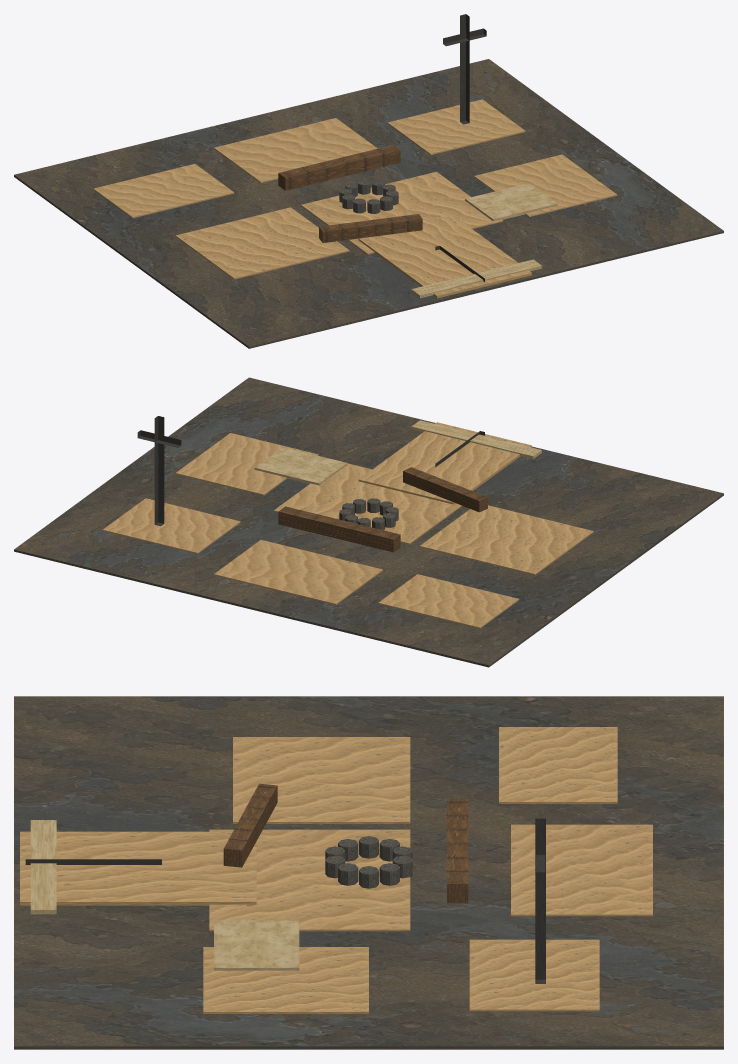
Rendered from ENV_EPILOGUE_001.obj.
The picture shows the model from 3 angles, top to bottom: view 1: azimuth 30°, elevation 25°; view 2: azimuth 150°, elevation 25°; view 3: azimuth 270°, elevation 25°; orthographic projection. The views are drawn at different scales.
Parts seen in each view (by area): view 1: ExistingCampFootprint, RecedingWetnessPatch_4, StormReleasePath, RecedingWetnessPatch_2, RecedingWetnessPatch_5, RecedingWetnessPatch_1, RecedingWetnessPatch_3, RecedingWetnessPatch_6, EpilogueFocus, EndingCrateSocket, CampHistoryBench, DawnDirectionMarker (+1 smaller); view 2: ExistingCampFootprint, RecedingWetnessPatch_4, RecedingWetnessPatch_2, StormReleasePath, RecedingWetnessPatch_5, RecedingWetnessPatch_1, RecedingWetnessPatch_3, RecedingWetnessPatch_6, EpilogueFocus, EndingCrateSocket, CampHistoryBench, DawnDirectionMarker (+1 smaller); view 3: ExistingCampFootprint, RecedingWetnessPatch_4, StormReleasePath, RecedingWetnessPatch_5, RecedingWetnessPatch_2, RecedingWetnessPatch_6, RecedingWetnessPatch_1, RecedingWetnessPatch_3, EndingCrateSocket, DawnDirectionMarker, EpilogueFocus, CampHistoryBench (+2 smaller).
Part boxes in pixels (x1,y1,x2,y2): ExistingCampFootprint: [14, 59, 723, 348]; RecedingWetnessPatch_4: [175, 207, 349, 279]; StormReleasePath: [358, 215, 531, 298]; RecedingWetnessPatch_2: [214, 118, 377, 183]; RecedingWetnessPatch_5: [301, 171, 503, 254]; RecedingWetnessPatch_1: [93, 164, 234, 218]; RecedingWetnessPatch_3: [387, 99, 525, 154]; RecedingWetnessPatch_6: [474, 154, 617, 217]; EpilogueFocus: [278, 145, 400, 190]; EndingCrateSocket: [465, 183, 557, 221]; CampHistoryBench: [319, 214, 422, 242]; DawnDirectionMarker: [411, 259, 541, 298]; ExistingCampFootprint: [14, 377, 723, 667]; RecedingWetnessPatch_4: [419, 505, 593, 575]; RecedingWetnessPatch_2: [214, 540, 382, 604]; StormReleasePath: [358, 422, 531, 504]; RecedingWetnessPatch_5: [274, 463, 462, 544]; RecedingWetnessPatch_1: [378, 574, 519, 628]; RecedingWetnessPatch_3: [102, 498, 240, 553]; RecedingWetnessPatch_6: [175, 433, 318, 495]; EpilogueFocus: [278, 506, 400, 552]; EndingCrateSocket: [254, 447, 347, 485]; CampHistoryBench: [403, 467, 487, 512]; DawnDirectionMarker: [411, 420, 541, 458]; ExistingCampFootprint: [14, 696, 723, 1049]; RecedingWetnessPatch_4: [233, 737, 410, 823]; StormReleasePath: [20, 831, 256, 905]; RecedingWetnessPatch_5: [209, 829, 410, 931]; RecedingWetnessPatch_2: [511, 824, 652, 916]; RecedingWetnessPatch_6: [203, 947, 368, 1013]; RecedingWetnessPatch_1: [499, 727, 617, 803]; RecedingWetnessPatch_3: [469, 939, 599, 1011]; EndingCrateSocket: [214, 920, 299, 970]; DawnDirectionMarker: [30, 820, 56, 914]; EpilogueFocus: [447, 799, 468, 903]; CampHistoryBench: [223, 783, 277, 867].
Bounding box in the file's own units: 7 × 1.55 × 6.
6 materials, 6 textured.
